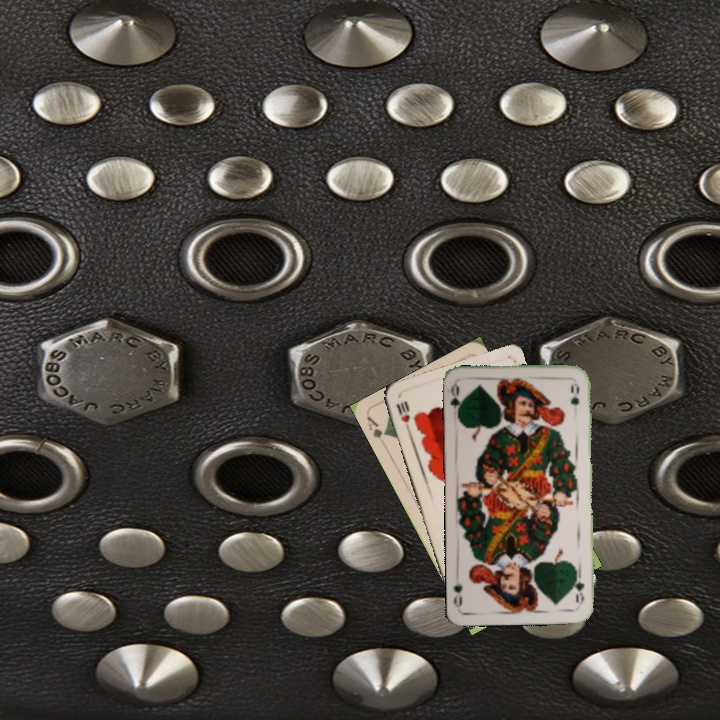GA: (363, 412, 390, 441)
GO: (446, 381, 466, 421), (570, 567, 587, 607)
H10: (392, 397, 413, 435)
